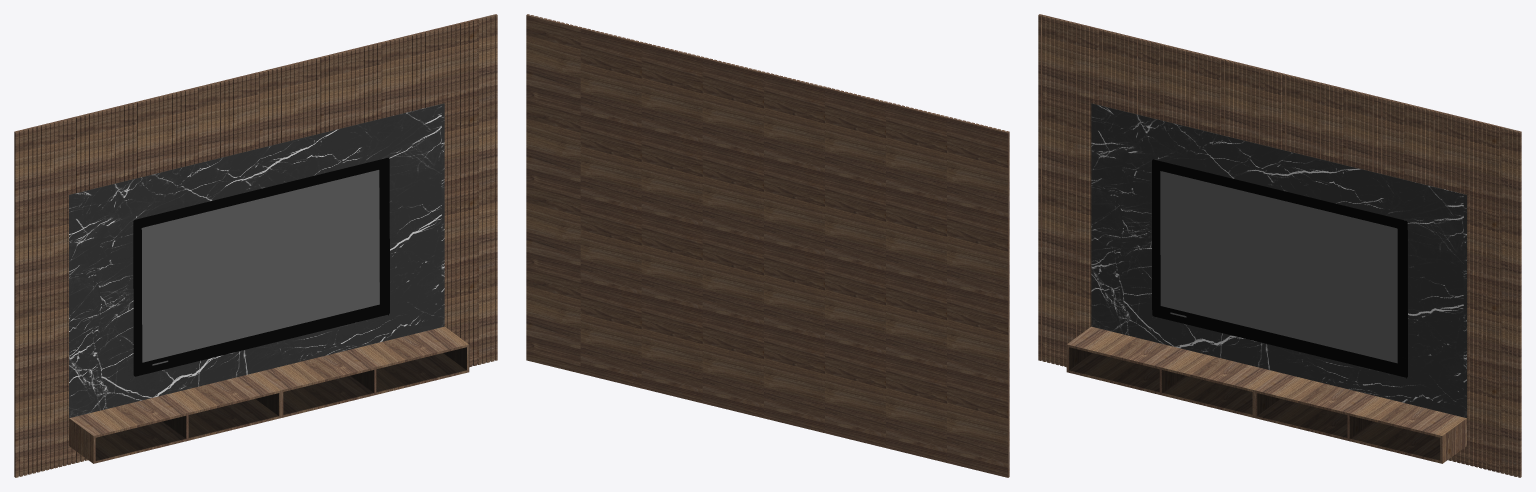
The model's file is TV stand_1.glb.
The picture shows the model from 3 angles, left to right: view 1: azimuth 30°, elevation 25°; view 2: azimuth 150°, elevation 25°; view 3: azimuth 330°, elevation 25°; orthographic projection.
Parts seen in each view (by area): view 1: Material2 (×6); view 2: Material2; view 3: Material2 (×6).
Boxes of the visible parts, box(x1,y1,x2,y2) form: Material2 (×6): box(14, 14, 497, 477); Material2: box(526, 14, 1009, 477); Material2 (×6): box(1038, 14, 1521, 477).
Size of the model in its own units: 178 by 122 by 16.75.
8 materials, 3 textured.
